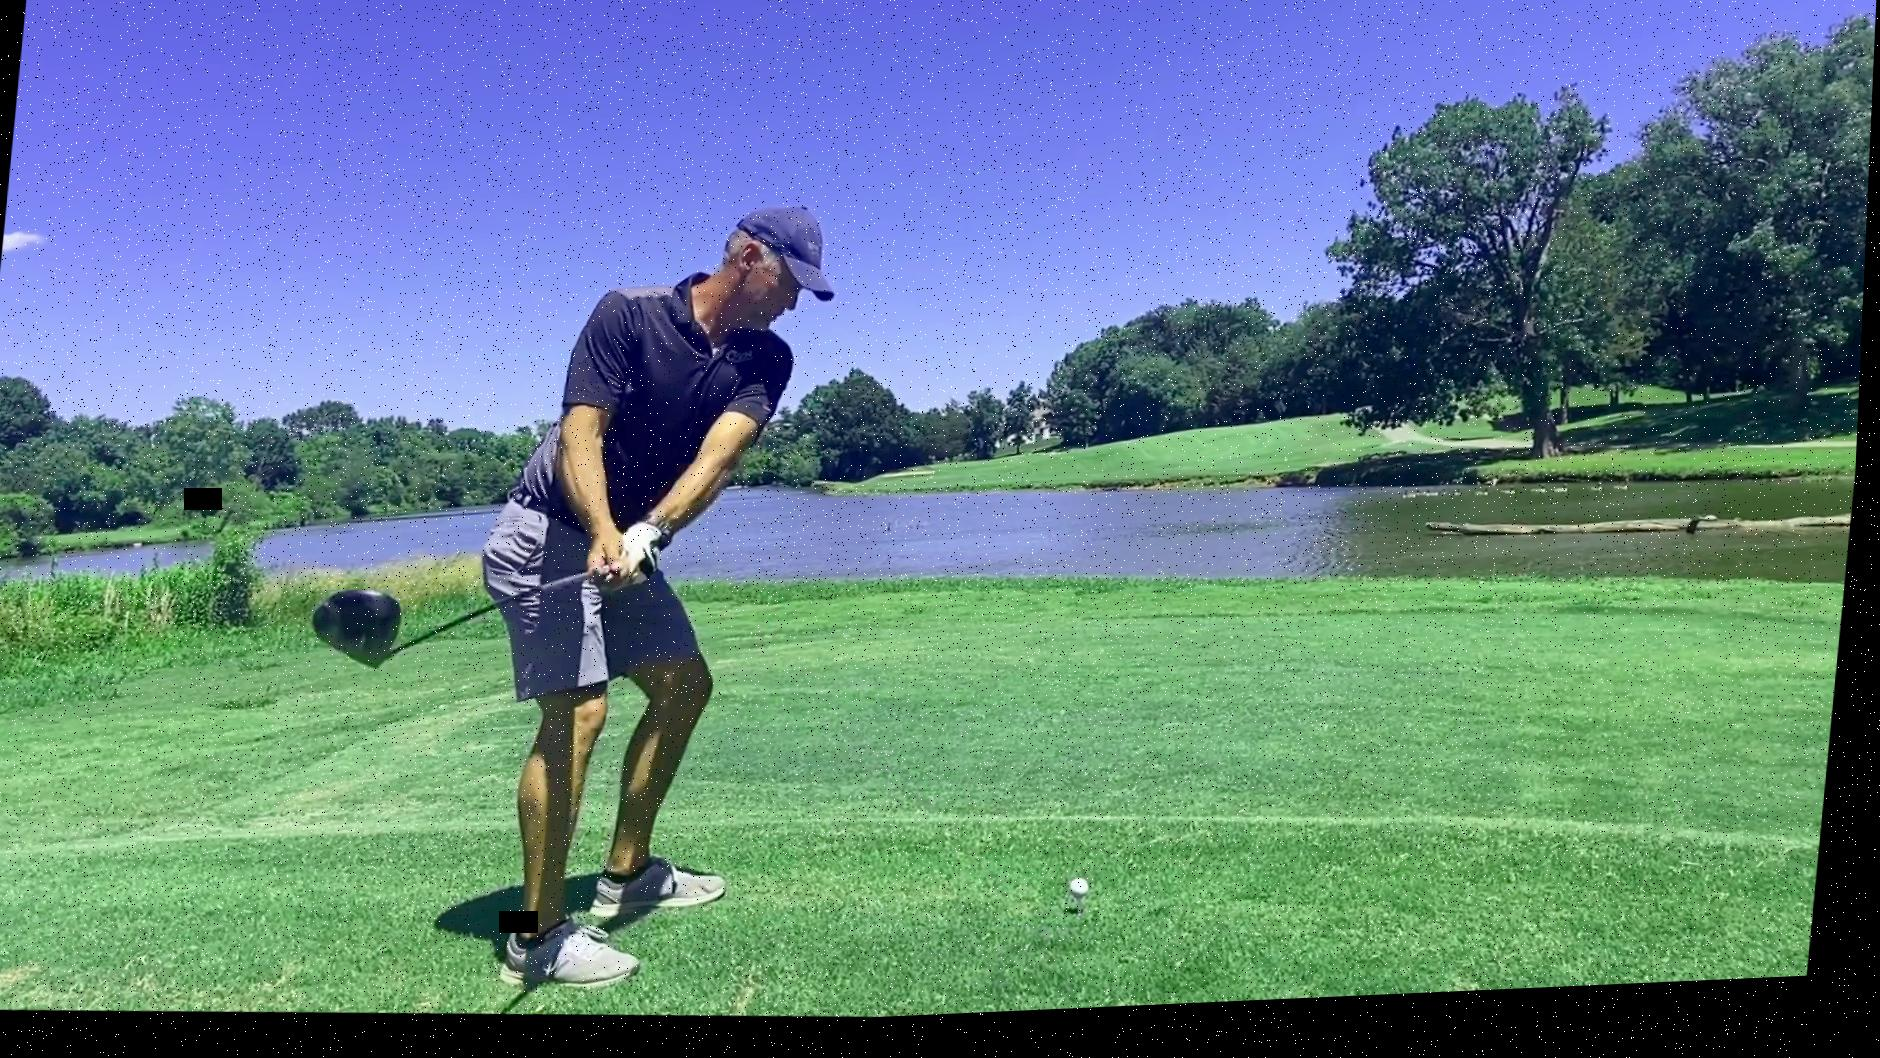ClubHead: (311, 586, 418, 679)
GolfBall: (1073, 885, 1101, 909)
